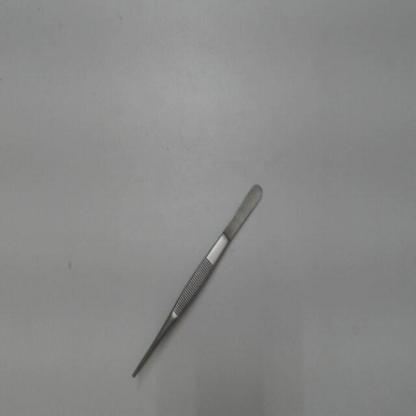Gillies Toothed Dissector: (126, 170, 278, 387)
